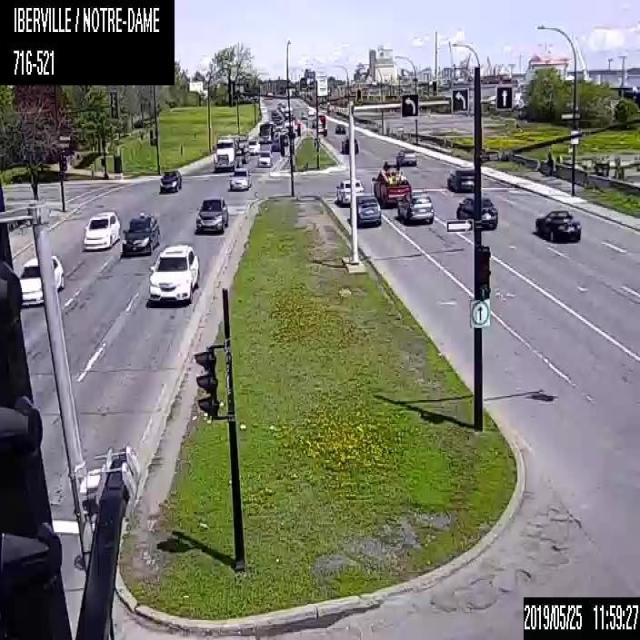vehicle: (149, 244, 199, 302), (18, 254, 64, 305), (371, 160, 411, 206), (534, 206, 581, 242), (121, 210, 159, 254), (82, 210, 120, 248), (456, 197, 498, 230), (397, 188, 433, 222), (213, 137, 250, 170), (195, 198, 227, 234), (349, 196, 382, 225), (446, 167, 475, 192), (333, 179, 362, 204), (158, 168, 182, 192), (227, 167, 251, 188), (396, 146, 416, 166), (312, 112, 327, 134), (340, 138, 356, 154), (259, 123, 272, 142), (257, 150, 272, 166), (248, 138, 260, 154), (334, 124, 346, 133)
